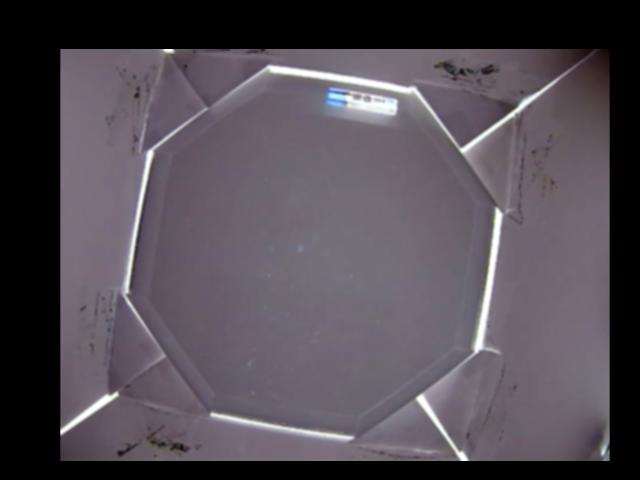Battery: (325, 86, 399, 119)
